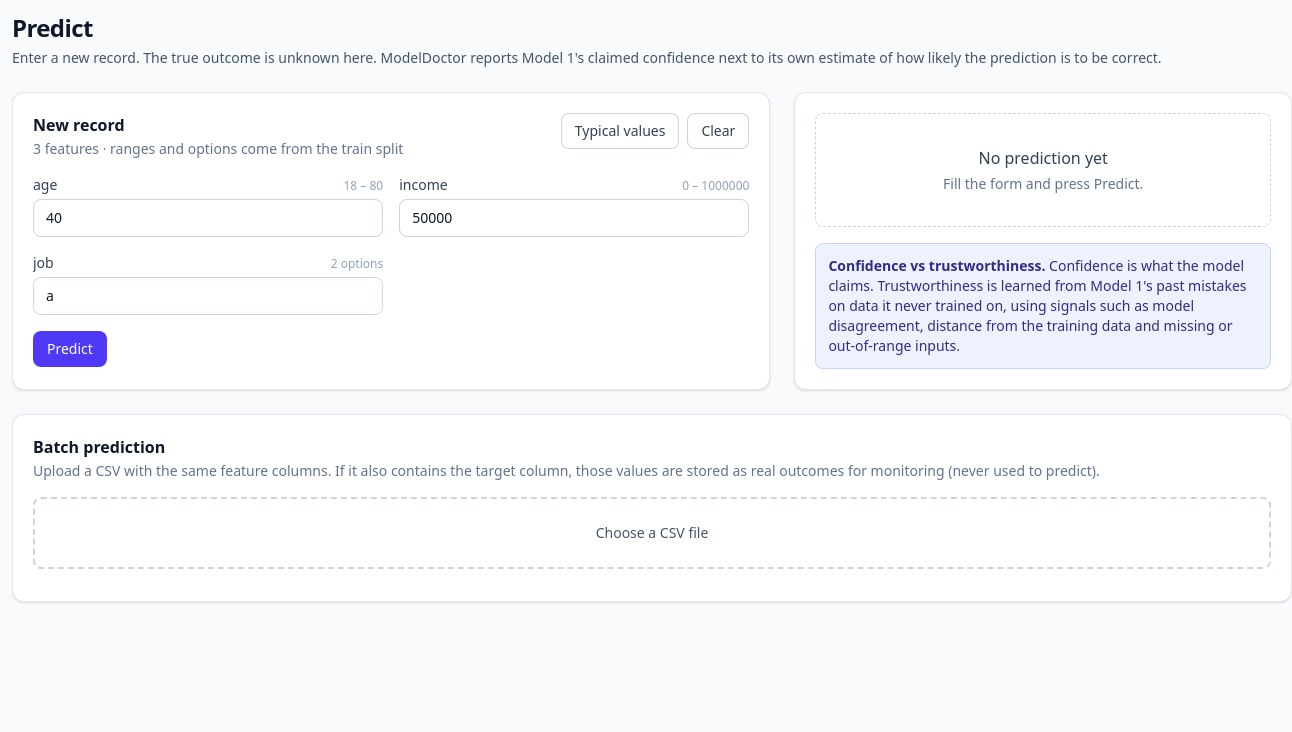
Test: PredictPage › shows the API error and keeps the form usable
What coordinates should you click on to do the following:
click the button "Predict"
I would click on:
 (70, 349)
Its box is [33,331,107,367].
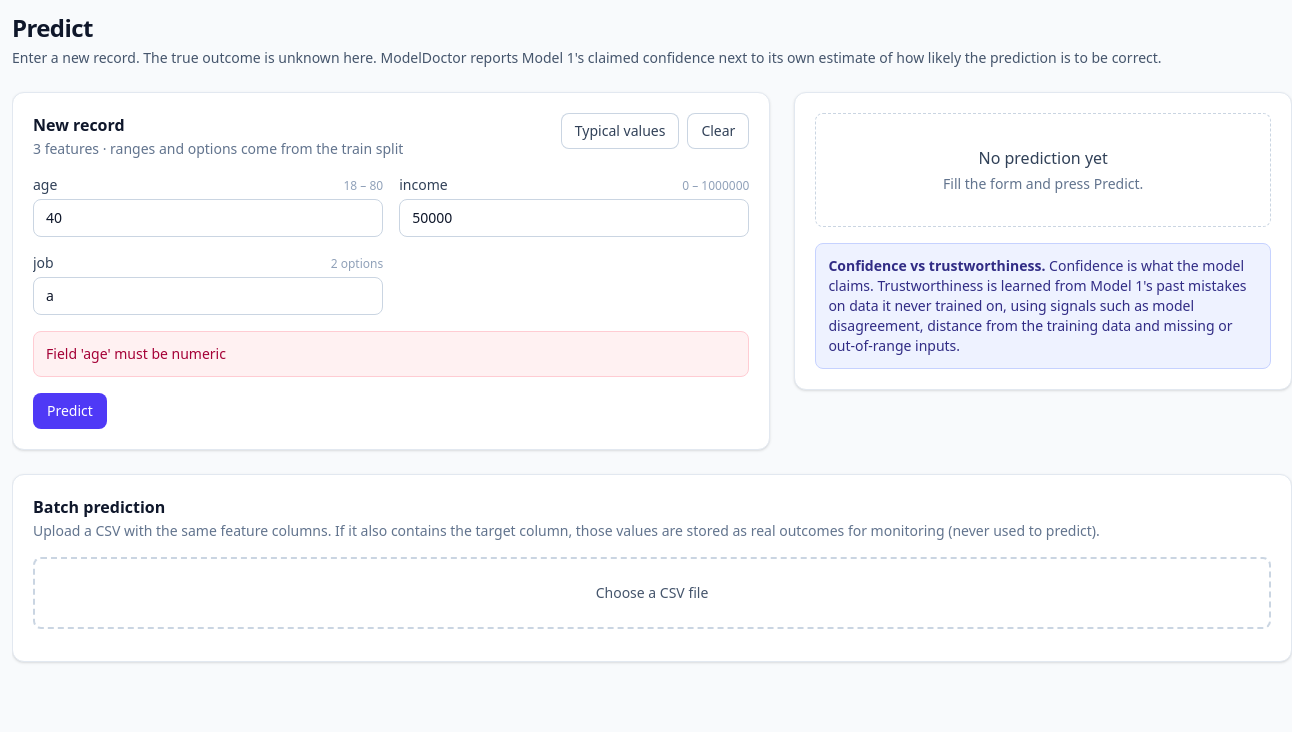
Check: the button "Predict" is enabled, box [33,393,107,429]
Check: the text "Field 'age' must be numeric" is shown, box [46,344,226,364]
